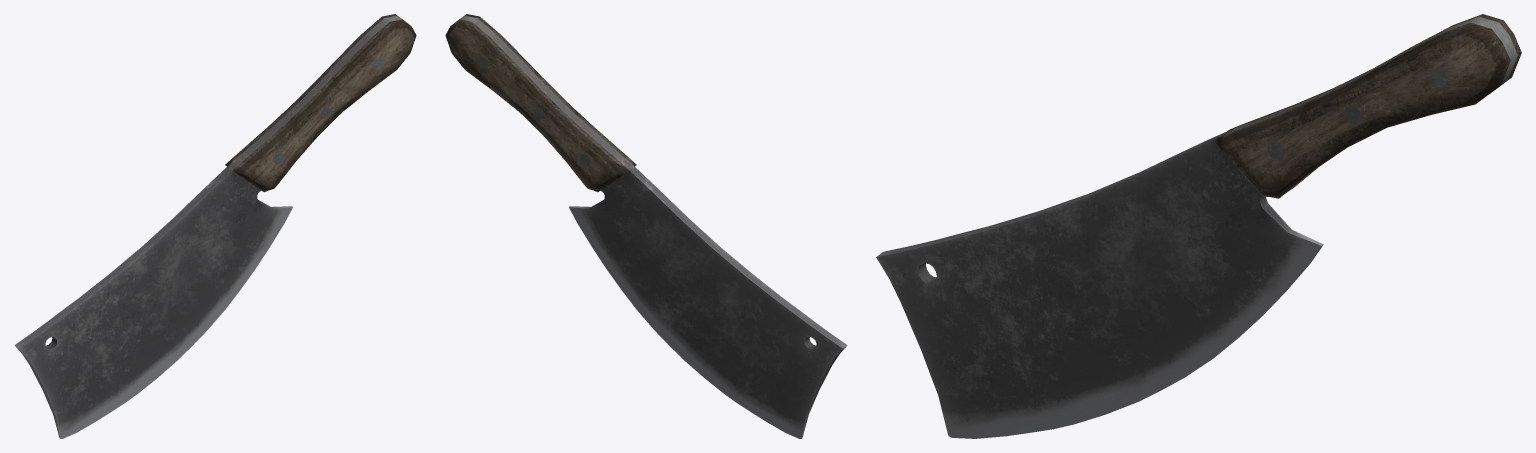
Rendered from w_cleaver.glb.
3 views of the same model, side by side, from view 1: azimuth 30°, elevation 25°; view 2: azimuth 150°, elevation 25°; view 3: azimuth 330°, elevation 25° (orthographic). The views are drawn at different scales.
Visible parts, largest first — view 1: Cleaver__cleaver01___Default_0; view 2: Cleaver__cleaver01___Default_0; view 3: Cleaver__cleaver01___Default_0.
Boxes of the visible parts, <box> form: Cleaver__cleaver01___Default_0: <box>14,14,416,438</box>; Cleaver__cleaver01___Default_0: <box>445,14,847,438</box>; Cleaver__cleaver01___Default_0: <box>876,14,1521,438</box>.
Size of the model in its own units: 0.9088 by 0.7456 by 0.0595.
1 material, 1 textured.
